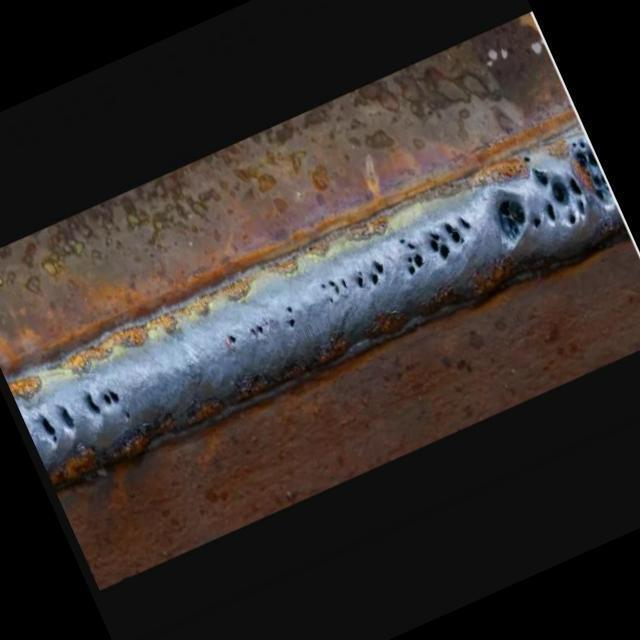defect: (493, 151, 589, 246), (572, 139, 612, 203), (81, 384, 135, 421), (398, 235, 428, 281), (355, 258, 389, 291), (426, 230, 452, 265), (318, 276, 349, 305), (37, 409, 60, 446), (444, 221, 467, 246), (59, 402, 77, 433), (282, 304, 297, 329), (250, 322, 267, 338), (459, 215, 473, 231), (227, 332, 239, 347)
